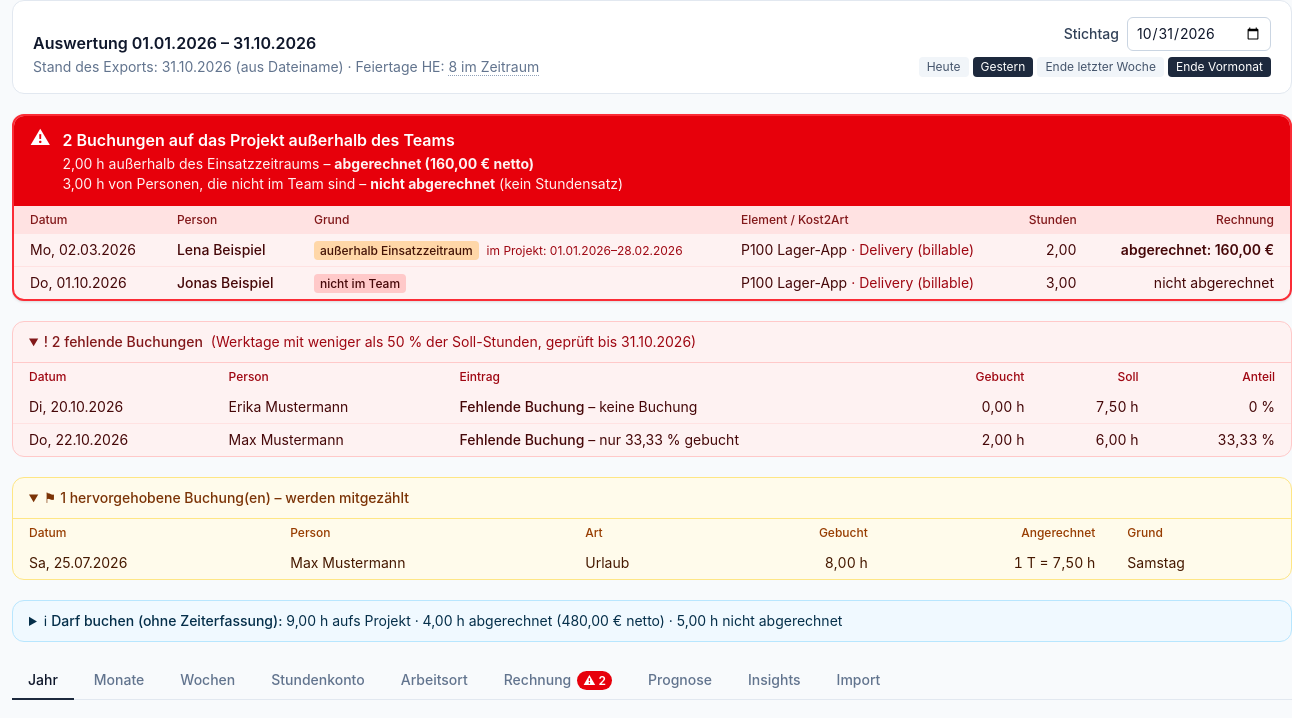
Test case: ResultsView – Prognose › zeigt Insights im eigenen Tab
What coordinates should you click on to do the following:
click the tab "Insights"
I would click on:
 (774, 681)
Its box is [732,662,817,700].
(page scrolled)
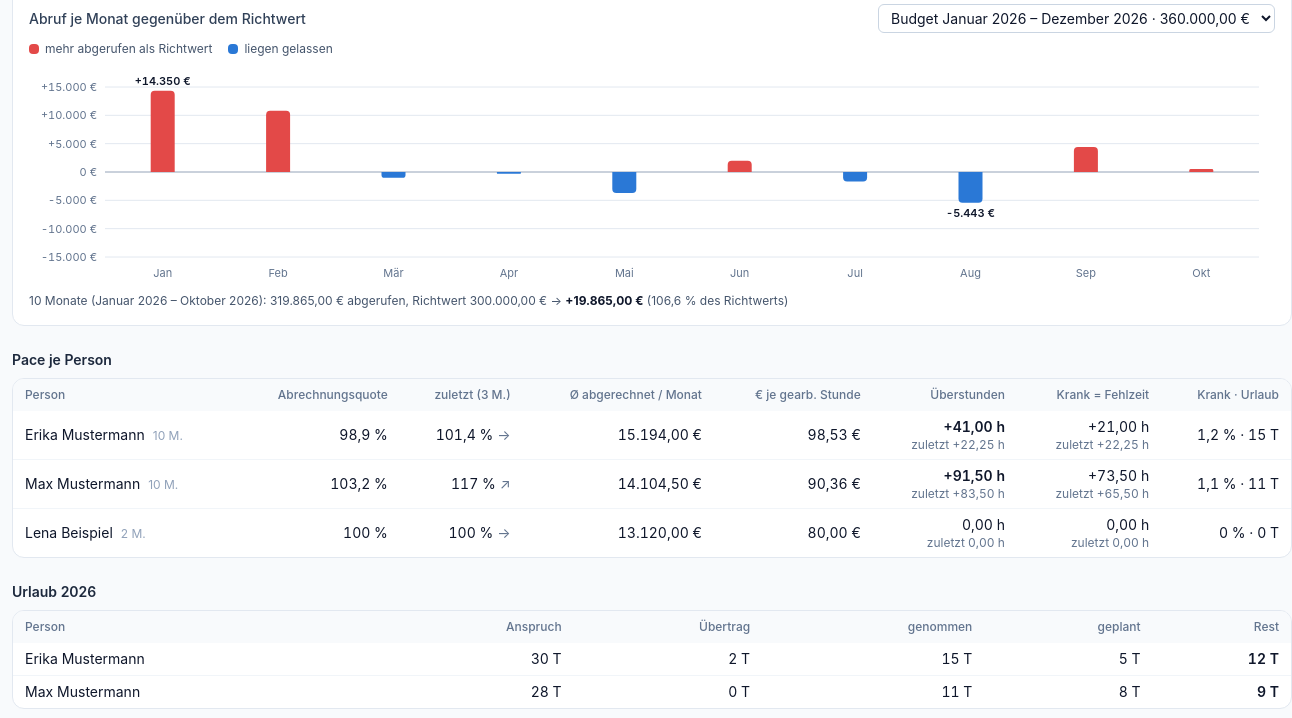
Now the heading "Pace je Person" is shown, box [12,351,112,368]
